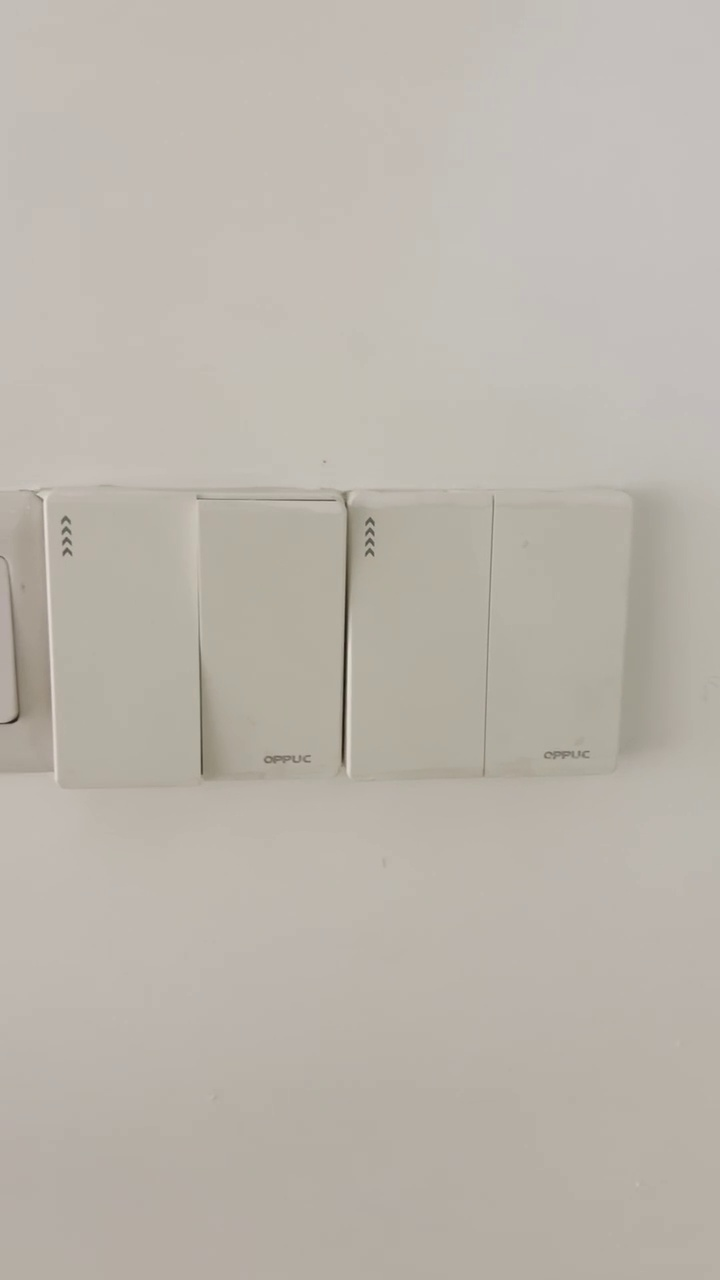button1: (52, 503, 199, 775), (491, 497, 627, 769), (349, 505, 487, 772), (205, 506, 339, 772)
